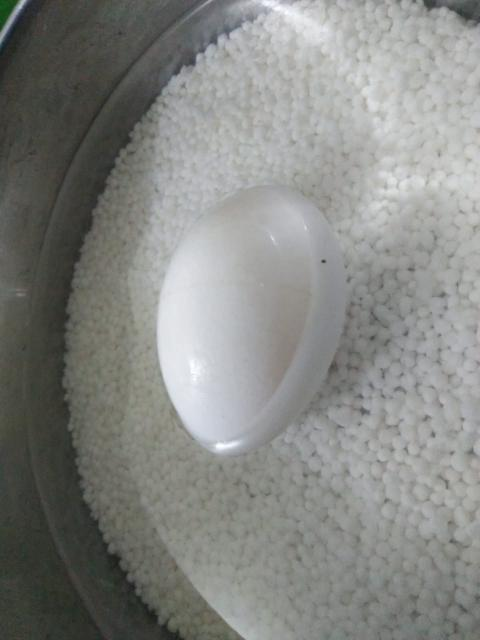Sano: (155, 182, 348, 456)
